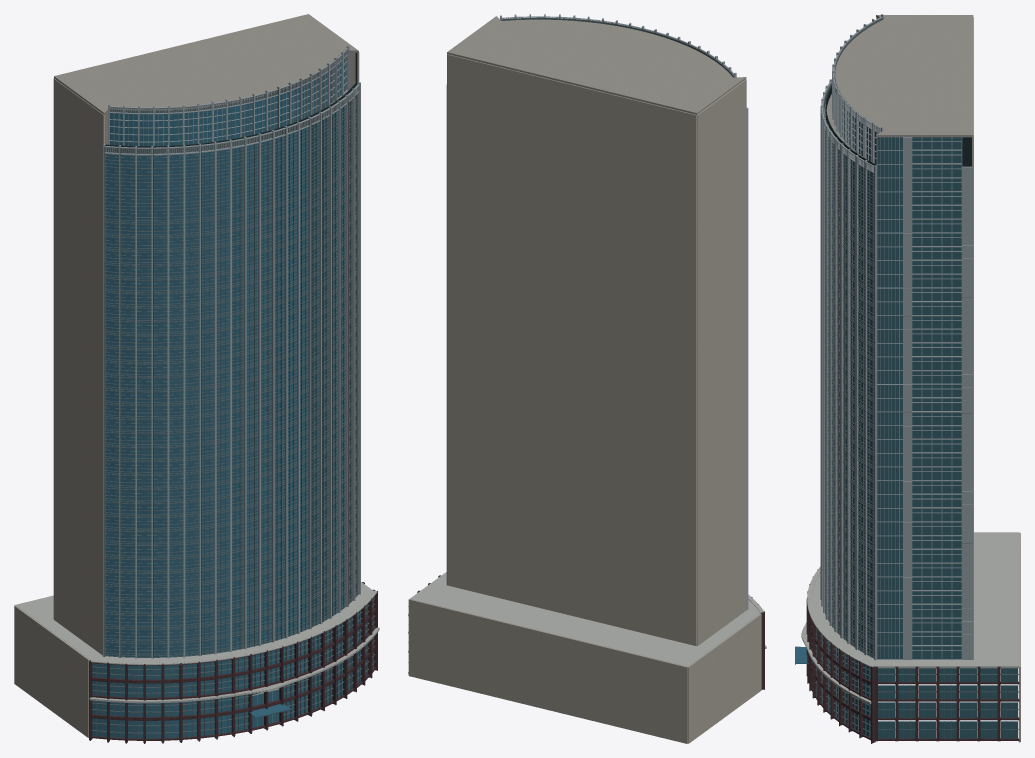
File: detail.glb
The picture shows the model from 3 angles, left to right: view 1: azimuth 30°, elevation 25°; view 2: azimuth 150°, elevation 25°; view 3: azimuth 270°, elevation 25°; orthographic projection. The views are drawn at different scales.
Visible parts, largest first — view 1: Crown_recessed_dark_comb_backing, Front_individual_thick_glazing_closed, Crown_two_levels_comb_fins_and_rails, Entry_recessed_double_height_glazing_and_doors, CLOSURE_HOLD_podium_unseen_rear_and_left, CLOSURE_HOLD_main_roof_and_crown_annulus, Entry_projecting_canopy_thick_glass, Podium_purple_stone_curved_piers_and_spandrels, Podium_continuous_curved_projection_and_coping, Front_glazing_rebate_and_dark_gaskets, NOT_INTERIOR_front_optical_liner; view 2: CLOSURE_HOLD_podium_unseen_rear_and_left, CLOSURE_HOLD_main_roof_and_crown_annulus, Podium_continuous_curved_projection_and_coping, Crown_two_levels_comb_fins_and_rails; view 3: Podium_side_back_observed_long_window_groups, Crown_two_levels_comb_fins_and_rails, Crown_recessed_dark_comb_backing, CLOSURE_HOLD_main_roof_and_crown_annulus, Podium_continuous_curved_projection_and_coping, Podium_purple_stone_curved_piers_and_spandrels, Front_individual_thick_glazing_closed, Front_glazing_rebate_and_dark_gaskets, Entry_recessed_double_height_glazing_and_doors, Entry_projecting_canopy_thick_glass, CLOSURE_HOLD_podium_unseen_rear_and_left, NOT_INTERIOR_front_optical_liner.
Part boxes in pixels (<box>): Crown_recessed_dark_comb_backing: <box>92,49,375,738</box>; Front_individual_thick_glazing_closed: <box>97,57,367,738</box>; Crown_two_levels_comb_fins_and_rails: <box>103,45,360,726</box>; Entry_recessed_double_height_glazing_and_doors: <box>92,80,367,738</box>; CLOSURE_HOLD_podium_unseen_rear_and_left: <box>14,78,104,737</box>; CLOSURE_HOLD_main_roof_and_crown_annulus: <box>54,14,358,155</box>; Entry_projecting_canopy_thick_glass: <box>92,75,367,738</box>; Podium_purple_stone_curved_piers_and_spandrels: <box>89,582,377,743</box>; Podium_continuous_curved_projection_and_coping: <box>16,582,379,703</box>; Front_glazing_rebate_and_dark_gaskets: <box>104,97,348,658</box>; NOT_INTERIOR_front_optical_liner: <box>105,52,357,694</box>; CLOSURE_HOLD_podium_unseen_rear_and_left: <box>408,54,761,743</box>; CLOSURE_HOLD_main_roof_and_crown_annulus: <box>447,16,746,114</box>; Podium_continuous_curved_projection_and_coping: <box>410,572,766,666</box>; Crown_two_levels_comb_fins_and_rails: <box>446,14,748,609</box>; Podium_side_back_observed_long_window_groups: <box>877,137,1017,738</box>; Crown_two_levels_comb_fins_and_rails: <box>820,14,972,660</box>; Crown_recessed_dark_comb_backing: <box>795,17,1019,739</box>; CLOSURE_HOLD_main_roof_and_crown_annulus: <box>824,15,973,173</box>; Podium_continuous_curved_projection_and_coping: <box>801,533,1019,703</box>; Podium_purple_stone_curved_piers_and_spandrels: <box>806,569,1019,743</box>; Front_individual_thick_glazing_closed: <box>823,112,878,722</box>; Front_glazing_rebate_and_dark_gaskets: <box>820,81,865,654</box>; Entry_recessed_double_height_glazing_and_doors: <box>823,106,876,736</box>; Entry_projecting_canopy_thick_glass: <box>795,118,876,737</box>; CLOSURE_HOLD_podium_unseen_rear_and_left: <box>876,17,1020,742</box>; NOT_INTERIOR_front_optical_liner: <box>825,85,971,166</box>.
Size of the model in its own units: 48.5 by 100 by 33.86.
Materials: 18 (5 with a texture image).
